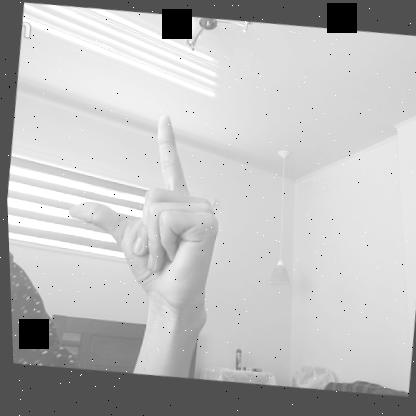L: (53, 100, 231, 314)
